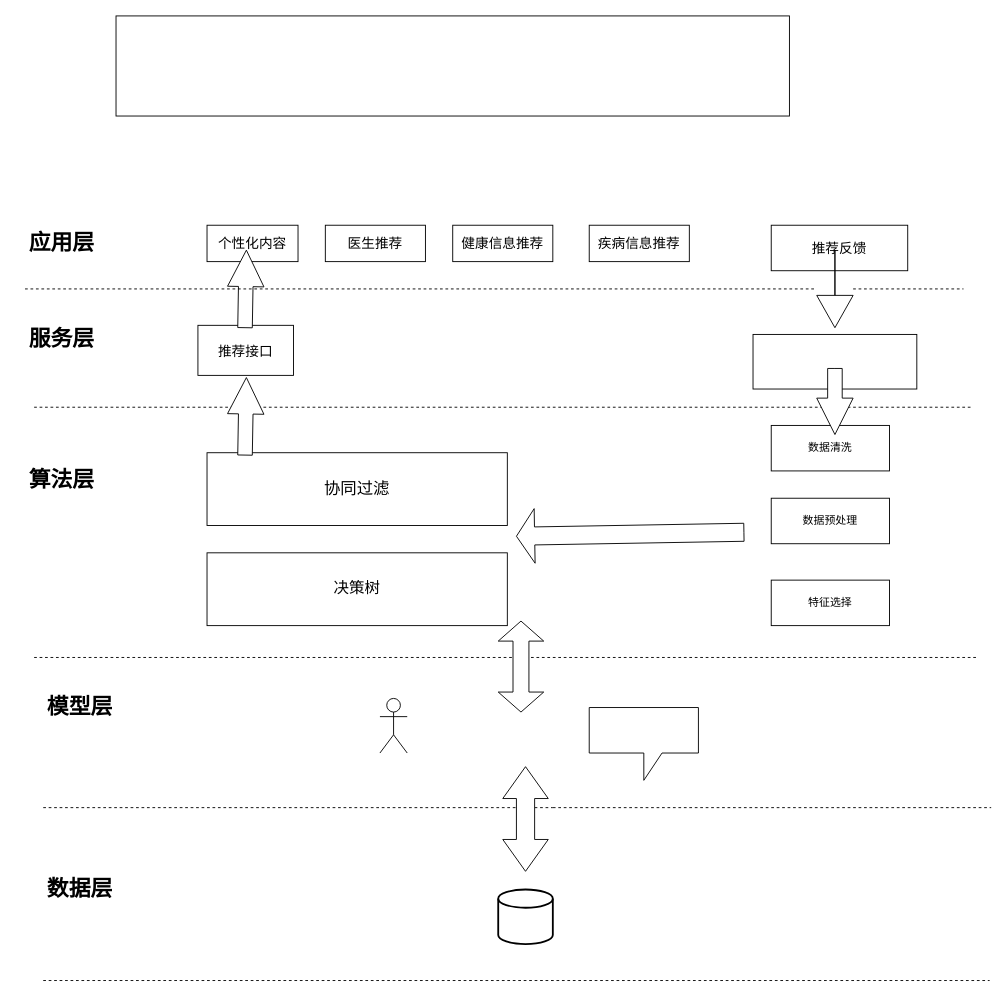
This 1008x997 diagram has some shape labels left out. Here are the shapes that lost their labels. From the top down, the box of each, then its label:
(115, 15, 789, 116): 个性化医疗方案推荐系统
(752, 334, 917, 389): 数据统计
(379, 698, 407, 753): 用户模型
(588, 707, 698, 780): 关系模型
(497, 888, 553, 945): MySQL
